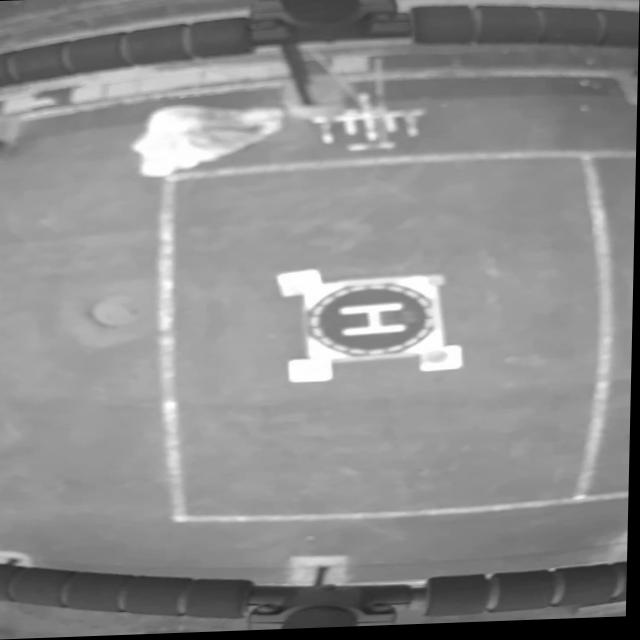Helipad: (338, 303, 411, 339)
